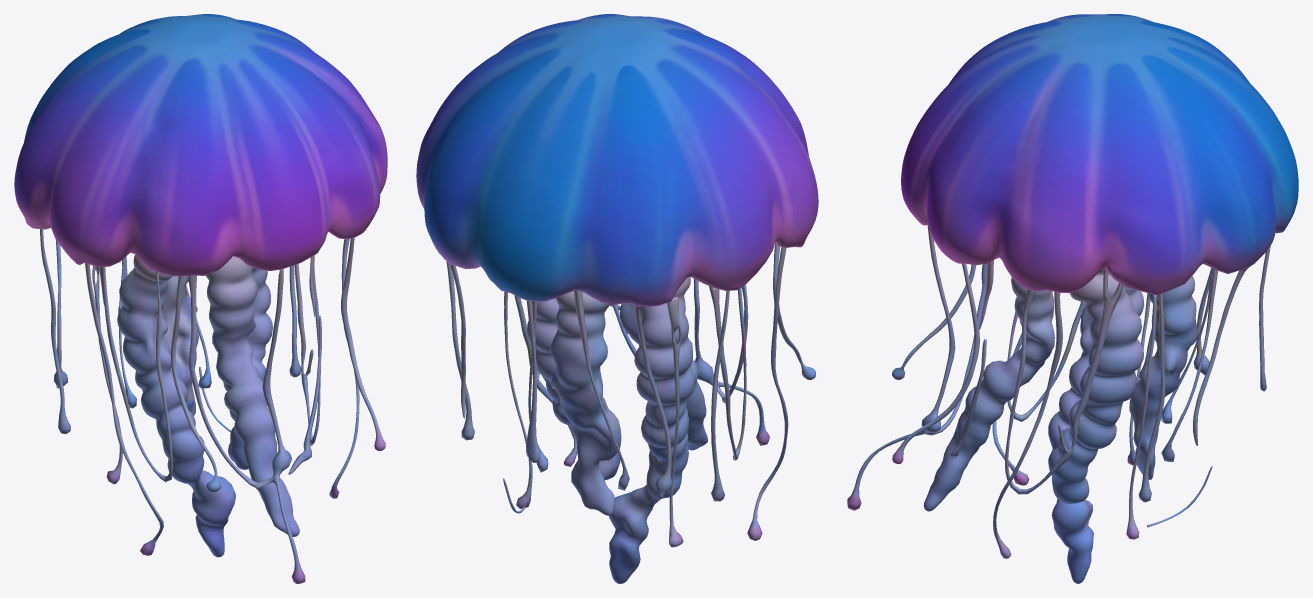
Rendered from tripo_convert_07b4fa14-85c3-44e4-8671-c849d107ef72.glb.
The picture shows the model from 3 angles, left to right: view 1: azimuth 30°, elevation 25°; view 2: azimuth 150°, elevation 25°; view 3: azimuth 270°, elevation 25°; orthographic projection. The views are drawn at different scales.
Visible parts, largest first — view 1: tripo_node_07b4fa14-85c3-44e4-8671-c849d107ef72; view 2: tripo_node_07b4fa14-85c3-44e4-8671-c849d107ef72; view 3: tripo_node_07b4fa14-85c3-44e4-8671-c849d107ef72.
Boxes of the visible parts, left/top/right/bottom form: tripo_node_07b4fa14-85c3-44e4-8671-c849d107ef72: left=14, top=14, right=387, bottom=583; tripo_node_07b4fa14-85c3-44e4-8671-c849d107ef72: left=416, top=14, right=818, bottom=583; tripo_node_07b4fa14-85c3-44e4-8671-c849d107ef72: left=847, top=14, right=1298, bottom=583.
Bounding box in the file's own units: 0.6116 × 0.9455 × 0.7088.
Materials: 1 (1 with a texture image).
